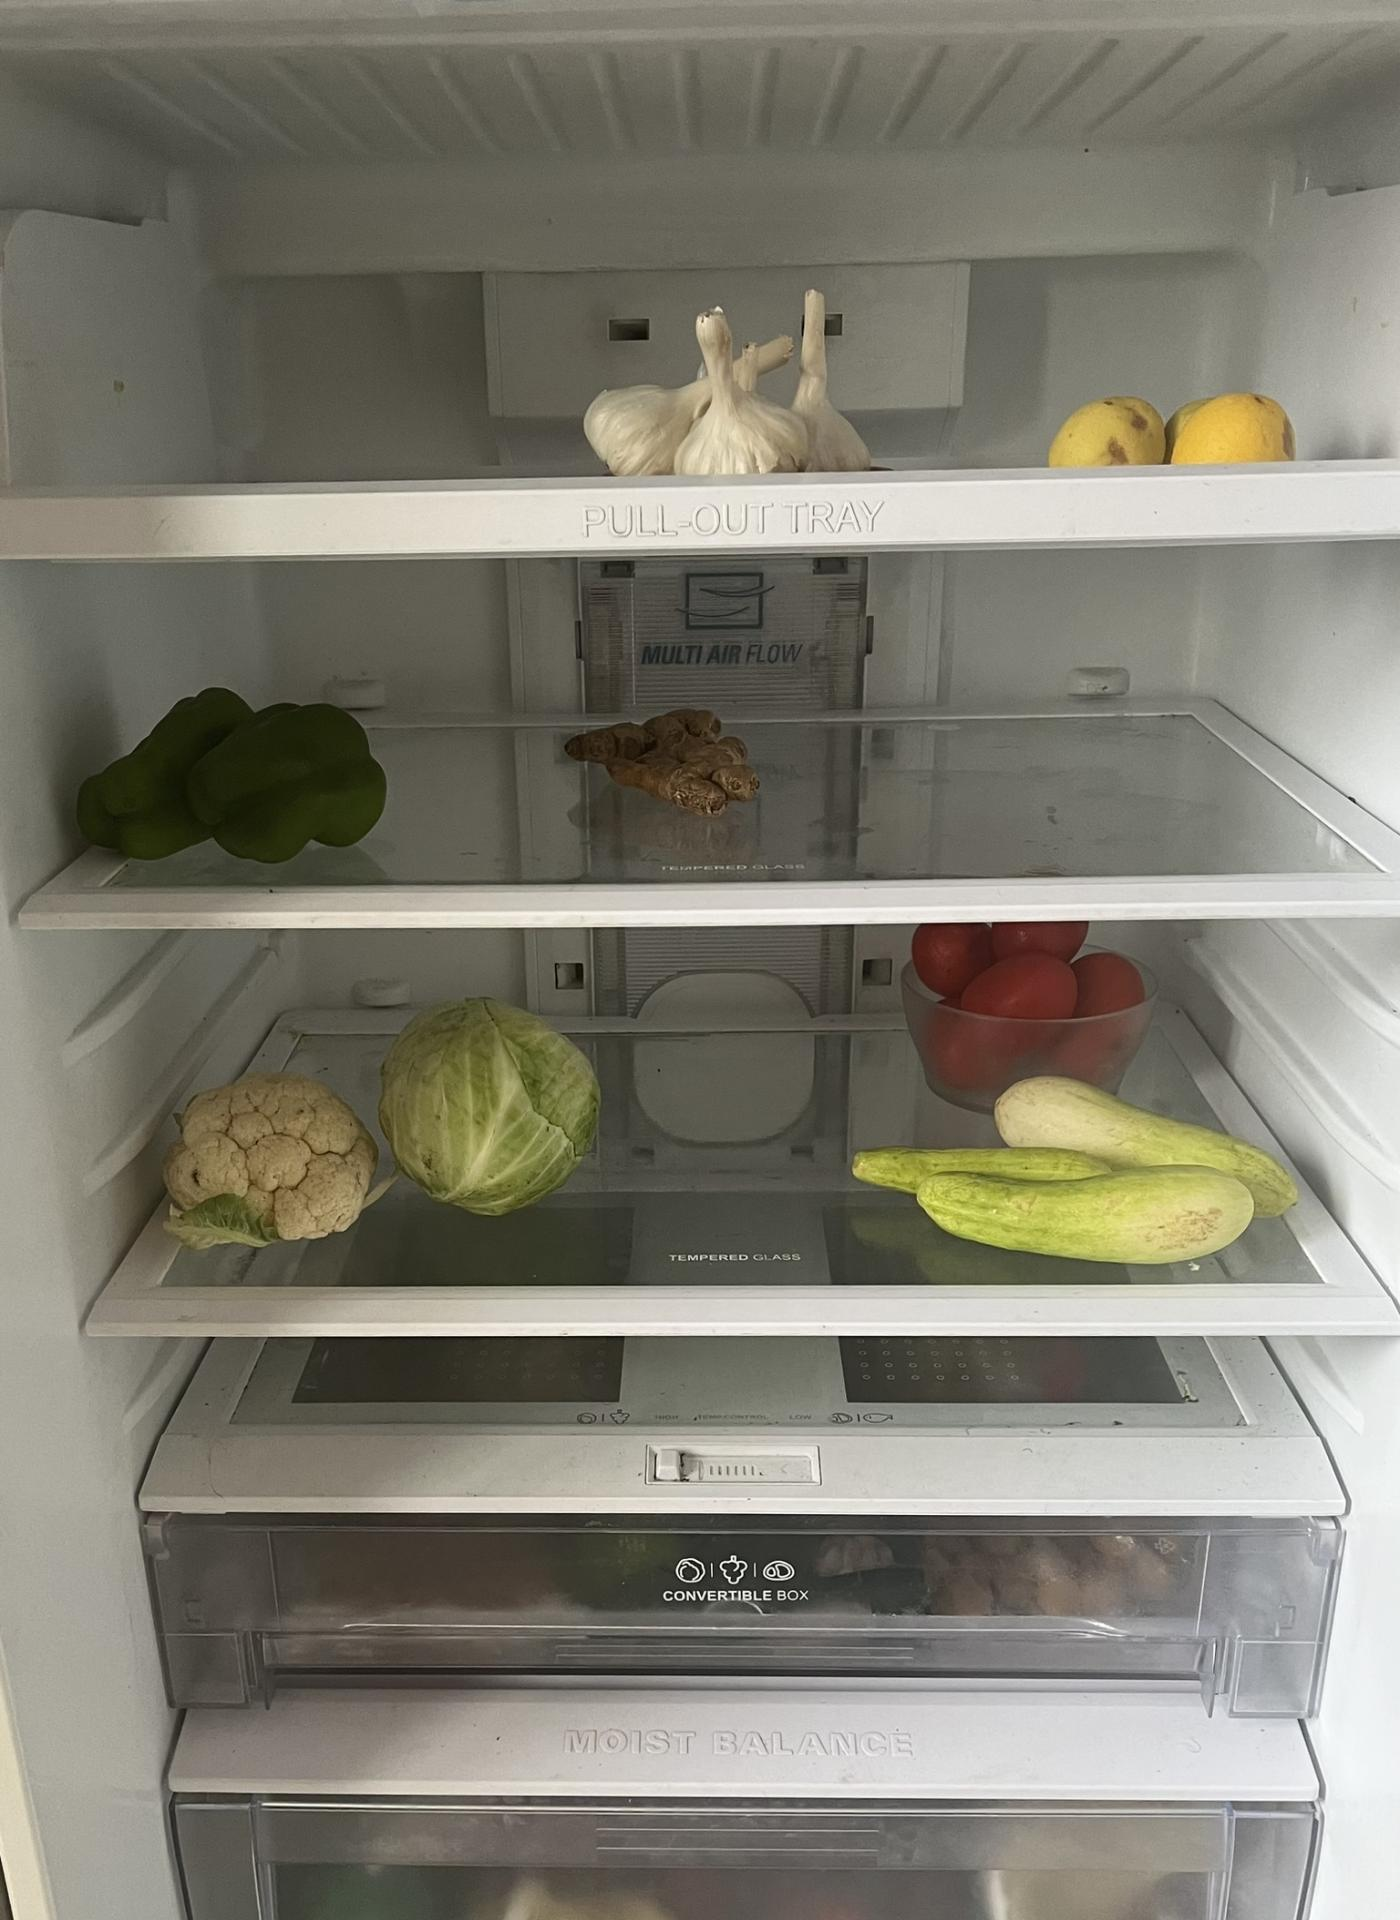cabbage: (383, 985, 604, 1228)
capsicum: (72, 684, 395, 865)
cauliflower: (154, 1070, 383, 1257)
cucumber: (850, 1076, 1312, 1266), (893, 915, 1155, 1078)
garlic: (574, 283, 883, 479)
ginger: (558, 705, 769, 823)
lemon: (1041, 380, 1305, 468)
